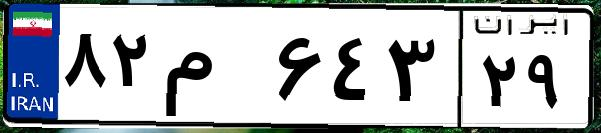2: (475, 38, 525, 113), (110, 28, 158, 98)
3: (385, 28, 445, 110)
4: (330, 28, 385, 110)
6: (270, 28, 330, 110)
8: (57, 26, 110, 100)
9: (525, 38, 570, 115)
م: (158, 20, 270, 120)
